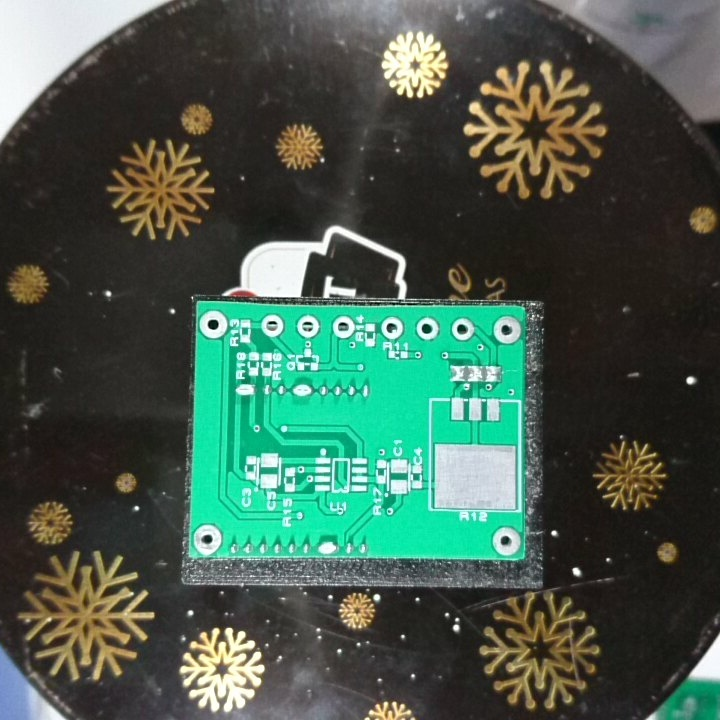F: (191, 523, 225, 556), (489, 526, 524, 556), (197, 309, 229, 340), (491, 315, 523, 345), (294, 313, 322, 342), (413, 315, 441, 343), (258, 312, 287, 339), (377, 314, 406, 340), (449, 316, 476, 343), (329, 314, 354, 340)
P: (289, 380, 314, 400), (315, 538, 339, 556), (233, 382, 258, 398)
